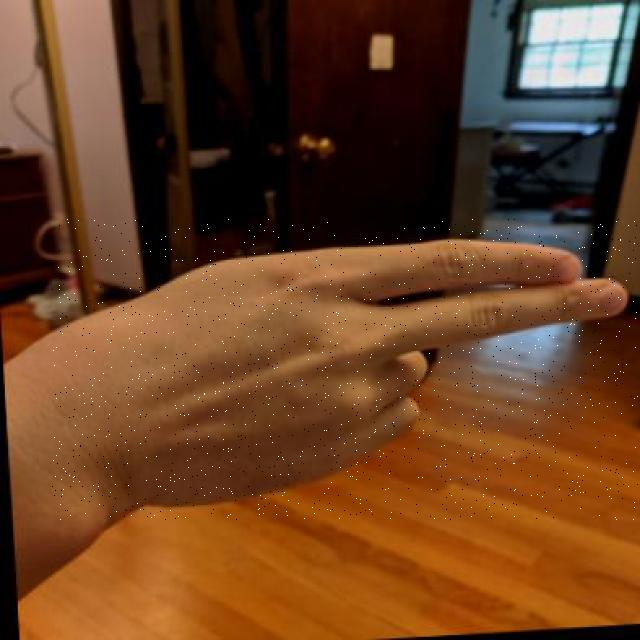H: (52, 219, 638, 520)
